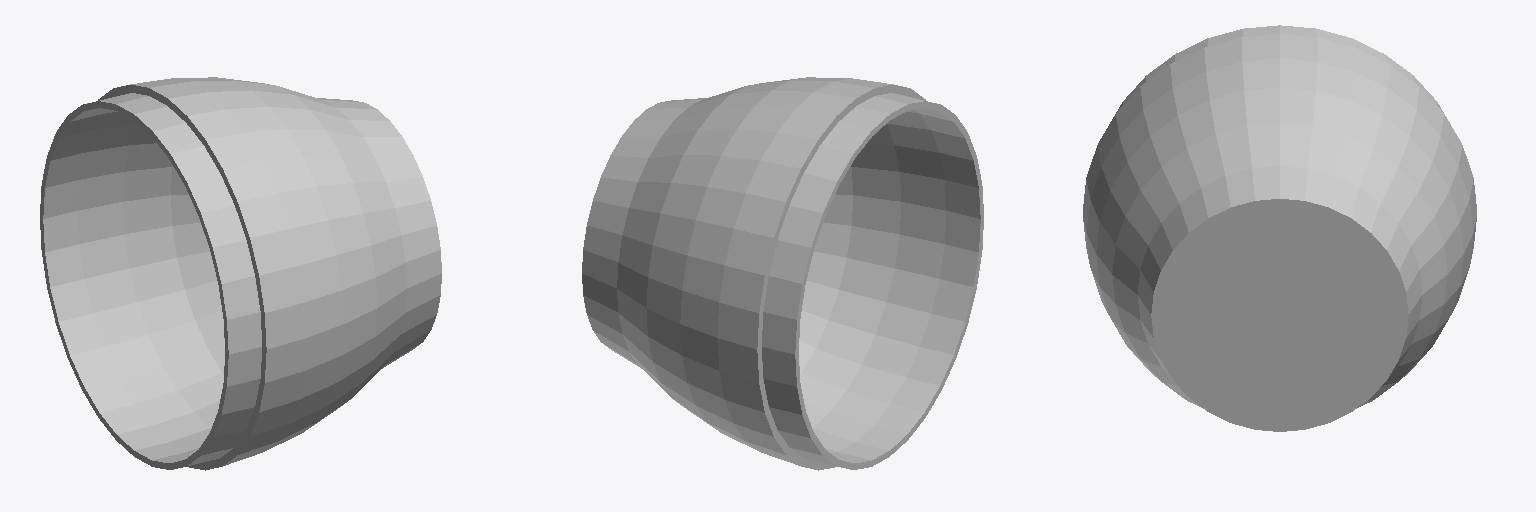
Rendered from ImperialStarDestroyerMainEngine.obj.
3 views of the same model, side by side, from view 1: azimuth 30°, elevation 25°; view 2: azimuth 150°, elevation 25°; view 3: azimuth 270°, elevation 25° (orthographic).
Parts seen in each view (by area): view 1: Circle; view 2: Circle; view 3: Circle.
Part boxes in pixels (bbox=[...]): Circle: bbox=[40, 77, 441, 470]; Circle: bbox=[582, 77, 983, 470]; Circle: bbox=[1083, 25, 1476, 431].
Size of the model in its own units: 0.2297 by 0.3227 by 0.3227.